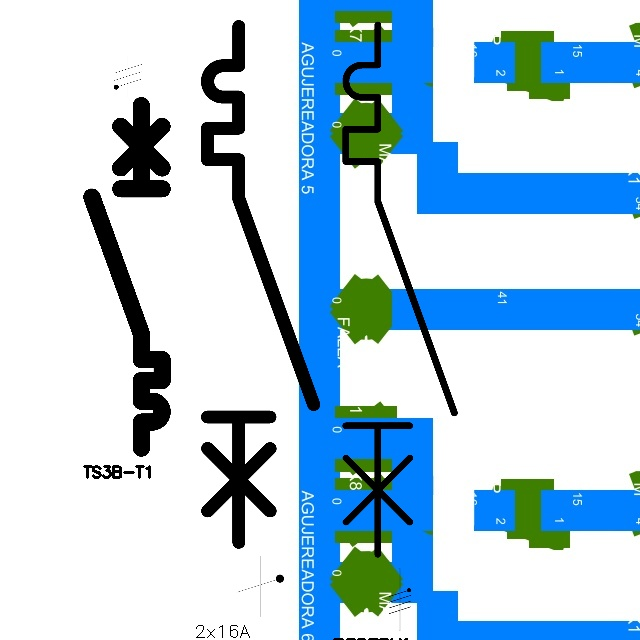interruptor_termomagnetico: (332, 11, 468, 567), (194, 13, 327, 556), (83, 96, 171, 456)
